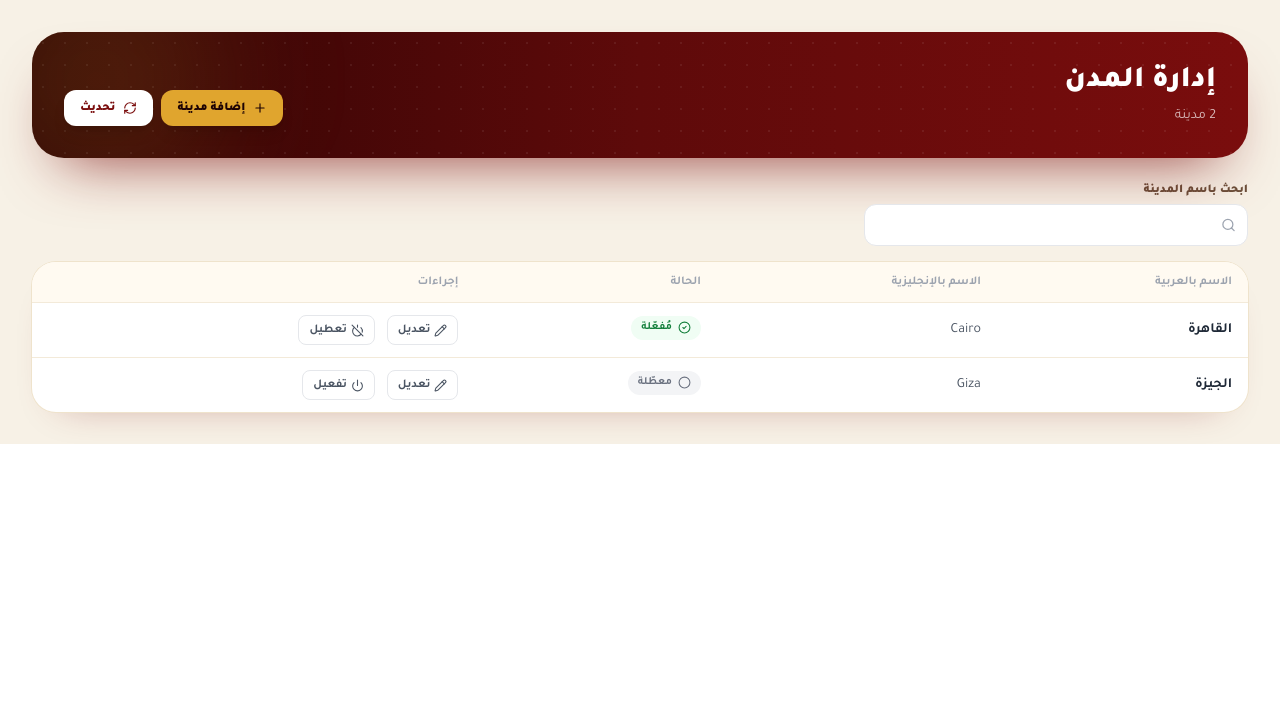
the governorate picker drawer replaces the add/edit name form › lists every governorate, pre-ticking only the ones that are live and active
Expected: the text "القاهرة" is shown, [997, 302, 1248, 358]
Click the button "إضافة مدينة" at (222, 108), box [161, 90, 283, 126]
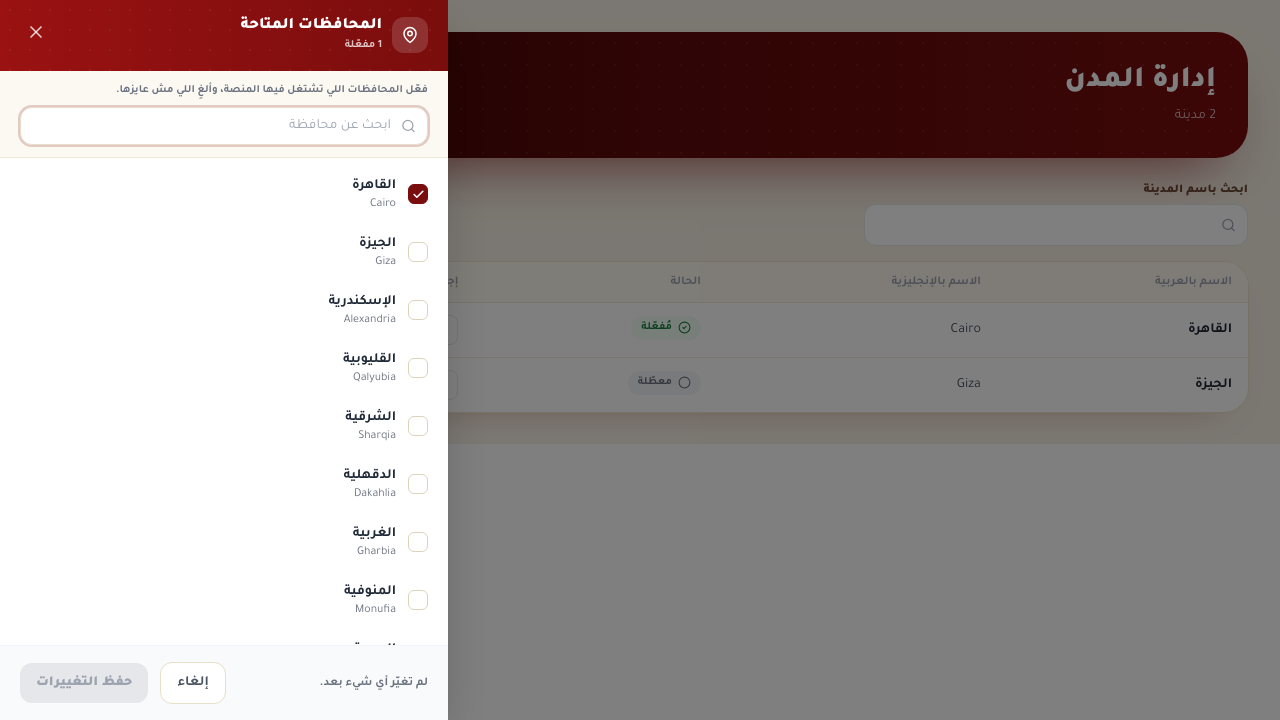
Expected: the dialog is shown, [0, 0, 448, 719]
